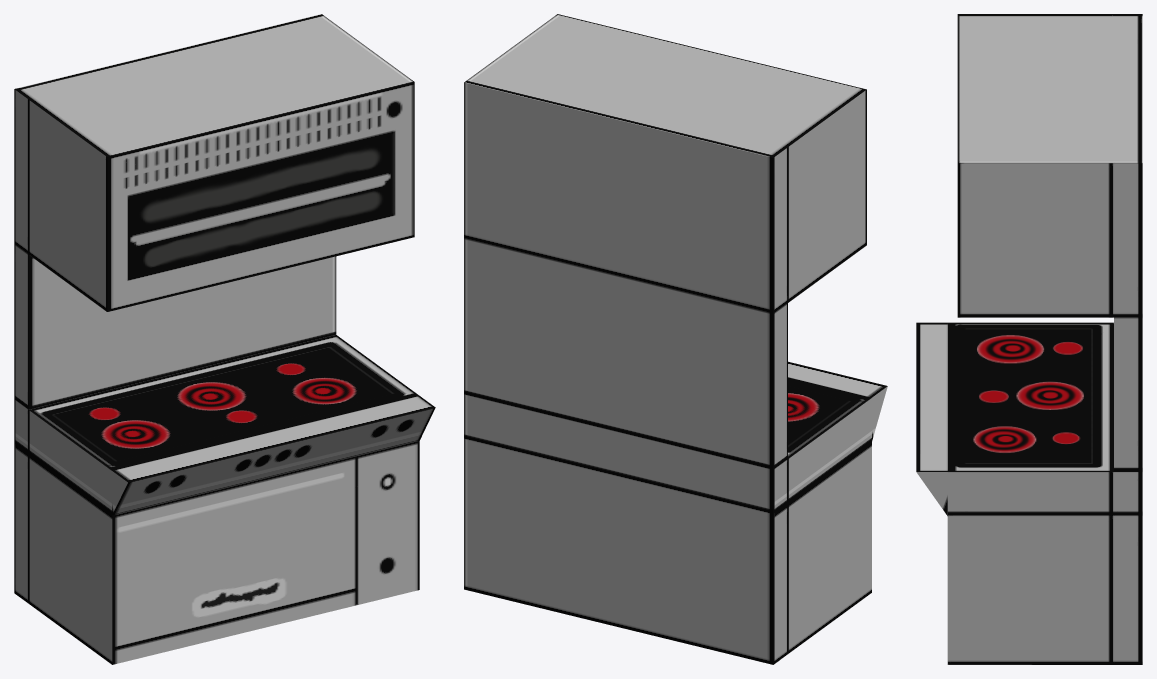
Rendered from Stove.fbx.
3 renders of one model, left to right at view 1: azimuth 30°, elevation 25°; view 2: azimuth 150°, elevation 25°; view 3: azimuth 270°, elevation 25°, orthographic.
Visible parts, largest first — view 1: Stove; view 2: Stove; view 3: Stove.
Boxes of the visible parts, x1=… form: Stove: x1=14, y1=14, x2=435, y2=664; Stove: x1=464, y1=14, x2=887, y2=664; Stove: x1=916, y1=14, x2=1142, y2=664.
Bounding box in the file's own units: 7.69 × 12.05 × 4.93.
1 material, 1 textured.
